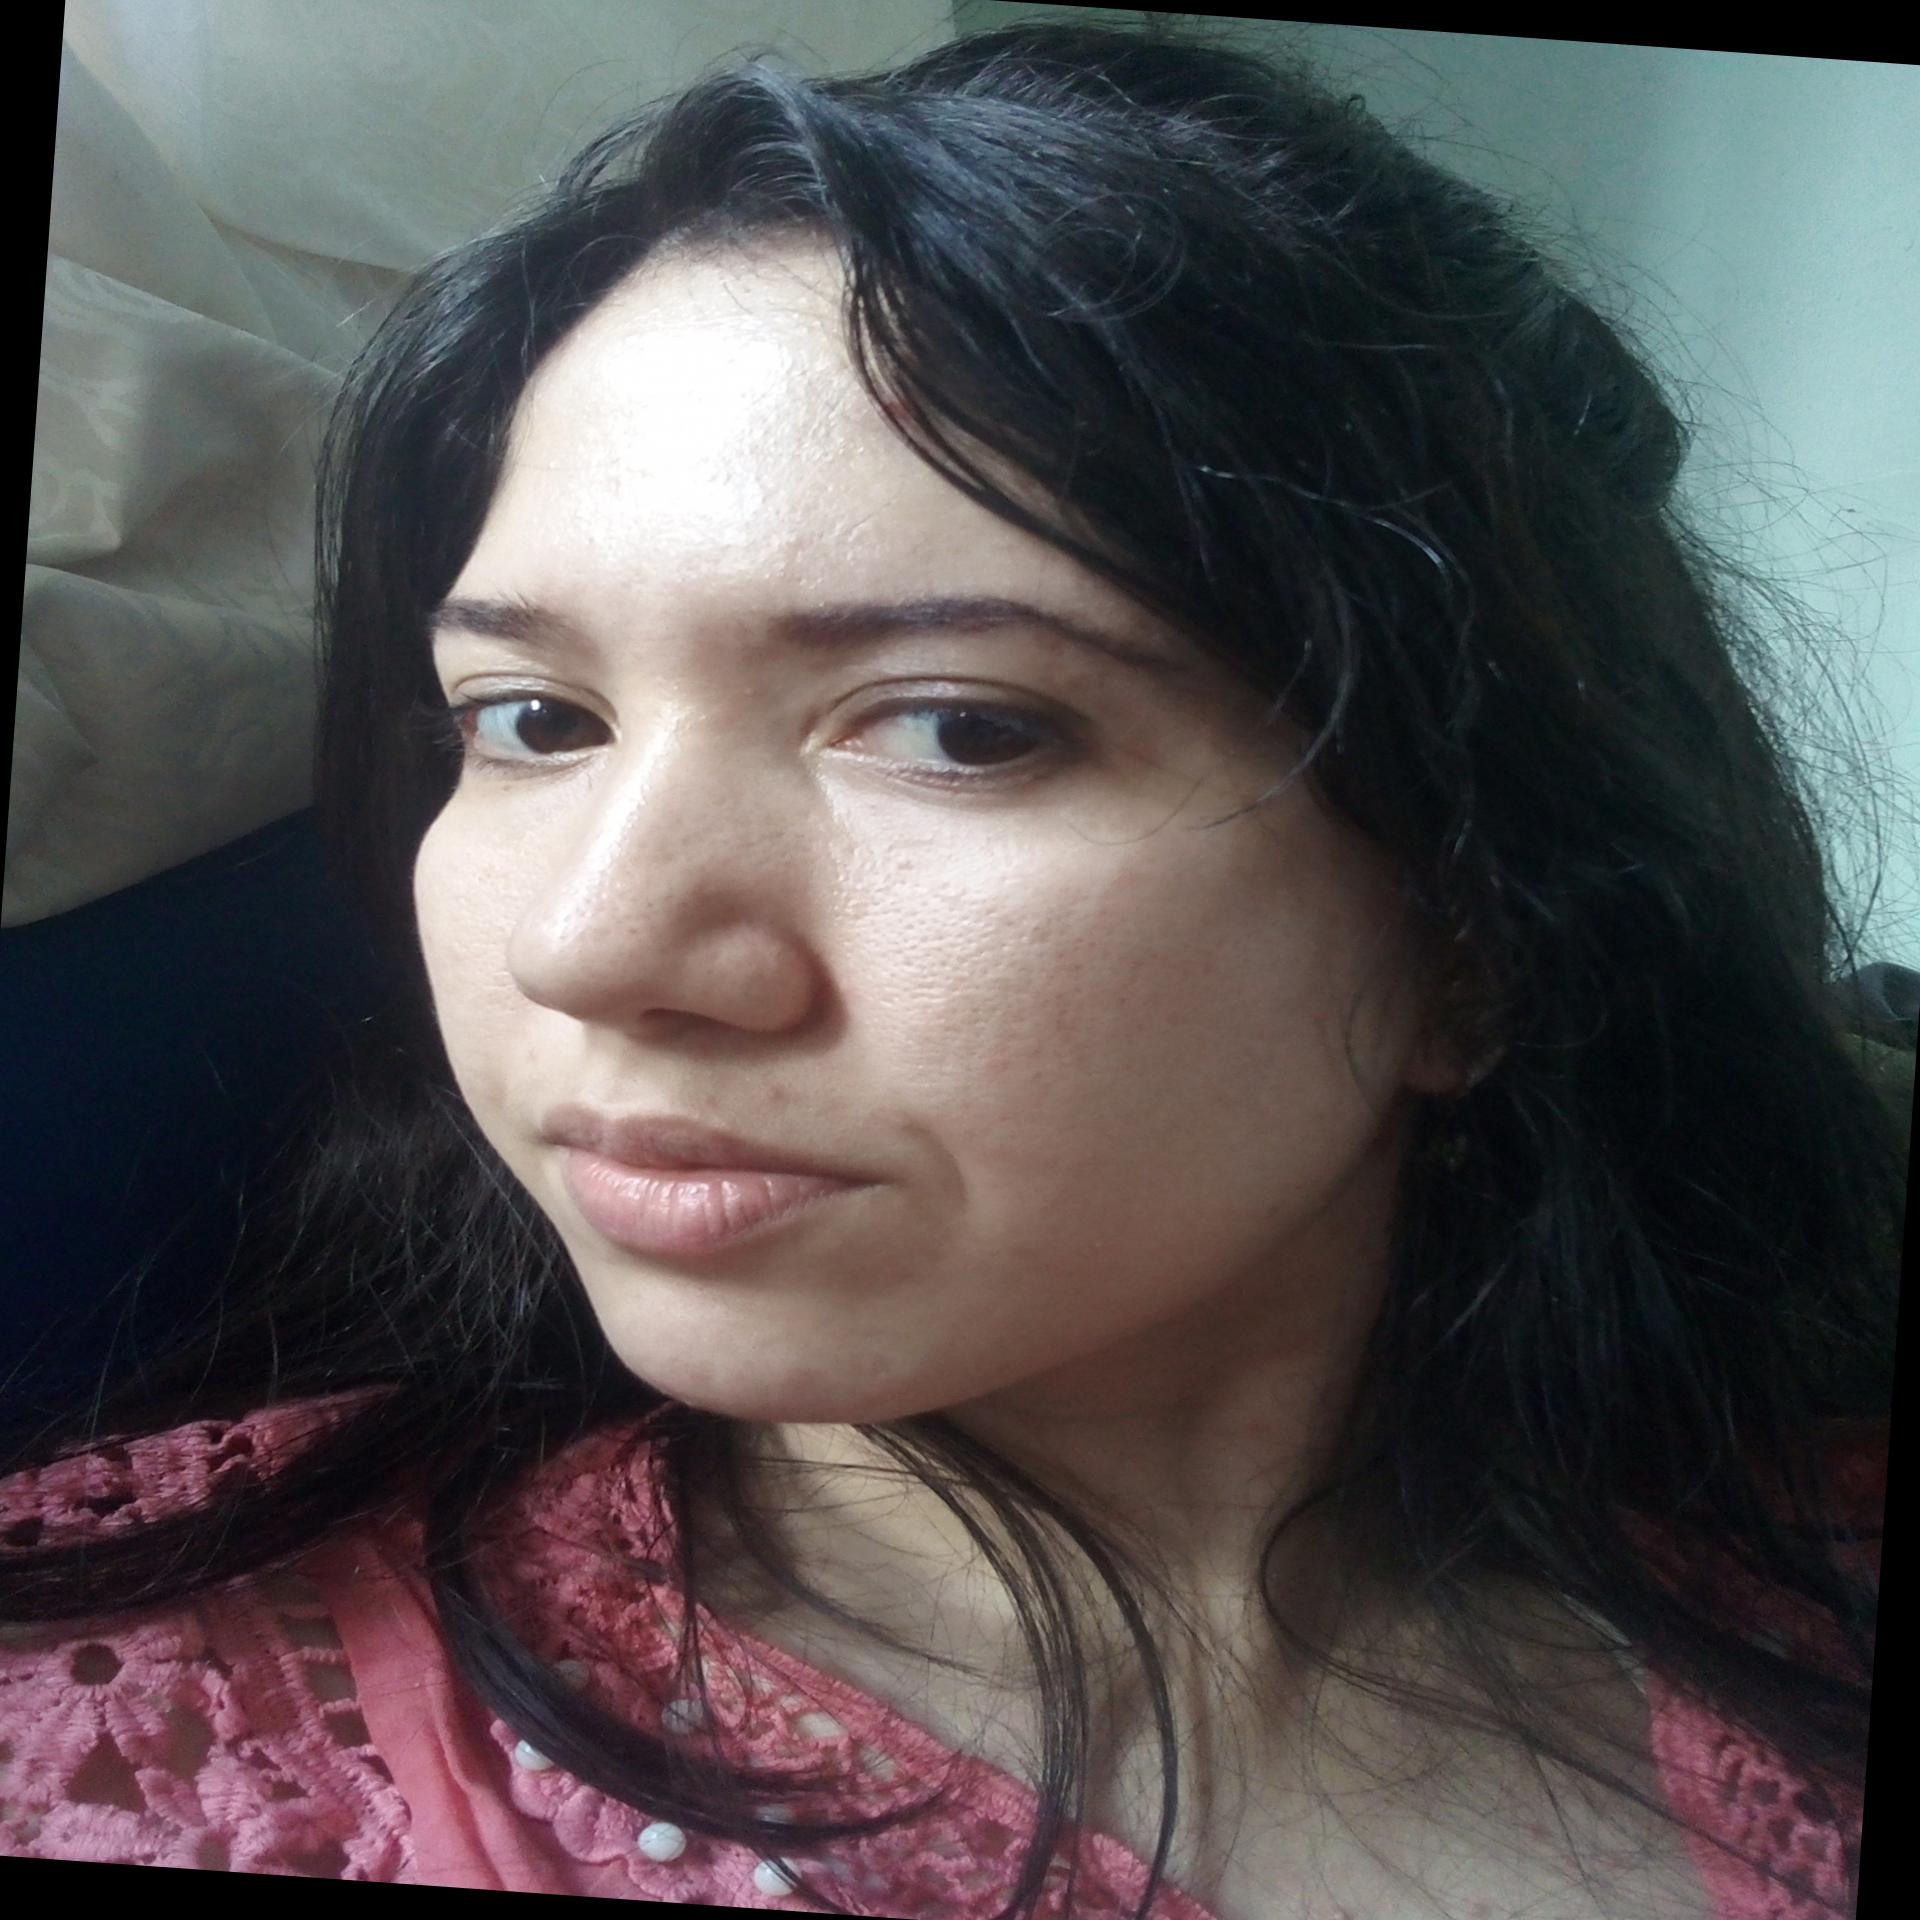Acne: (1217, 1190, 1278, 1234), (784, 1366, 826, 1398), (1004, 1236, 1036, 1266), (884, 846, 918, 874), (761, 1080, 791, 1108)
Blackhead: (545, 828, 668, 972)
Englarged Pores: (805, 832, 1104, 1138), (452, 867, 529, 1009)
